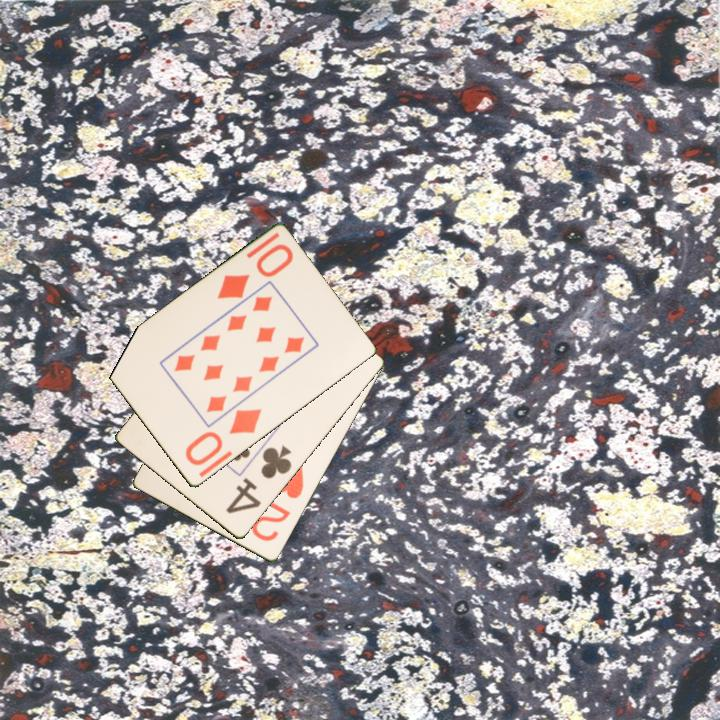10d: (181, 405, 265, 469), (213, 241, 296, 302)
2h: (248, 459, 307, 545)
4c: (222, 442, 295, 517)
